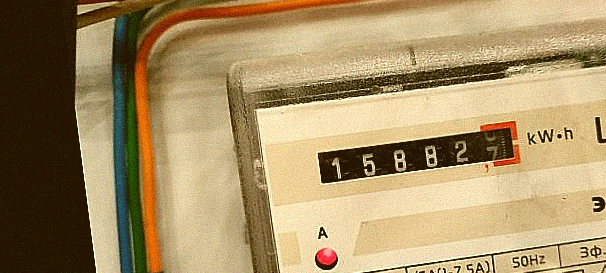1: (329, 153, 344, 181)
2: (452, 137, 471, 164)
5: (359, 150, 377, 178)
7: (483, 142, 500, 161)
8: (390, 146, 409, 173), (422, 142, 440, 169)
screen: (306, 114, 530, 198)
